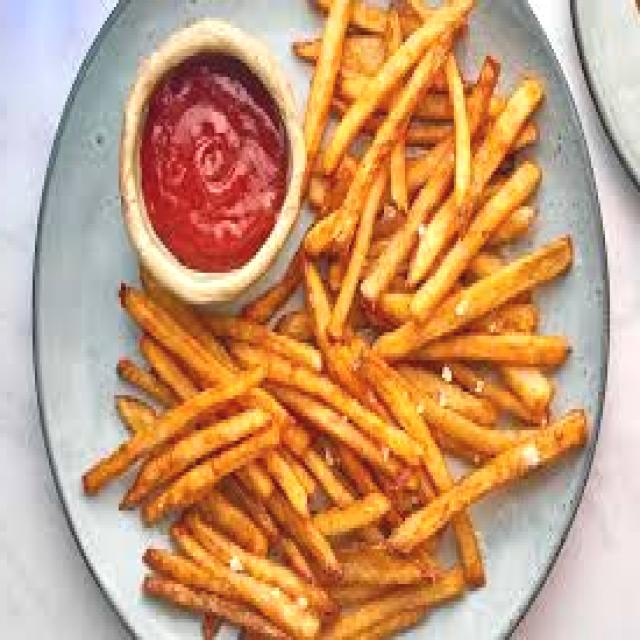fries: (274, 0, 588, 497), (131, 292, 495, 632)
